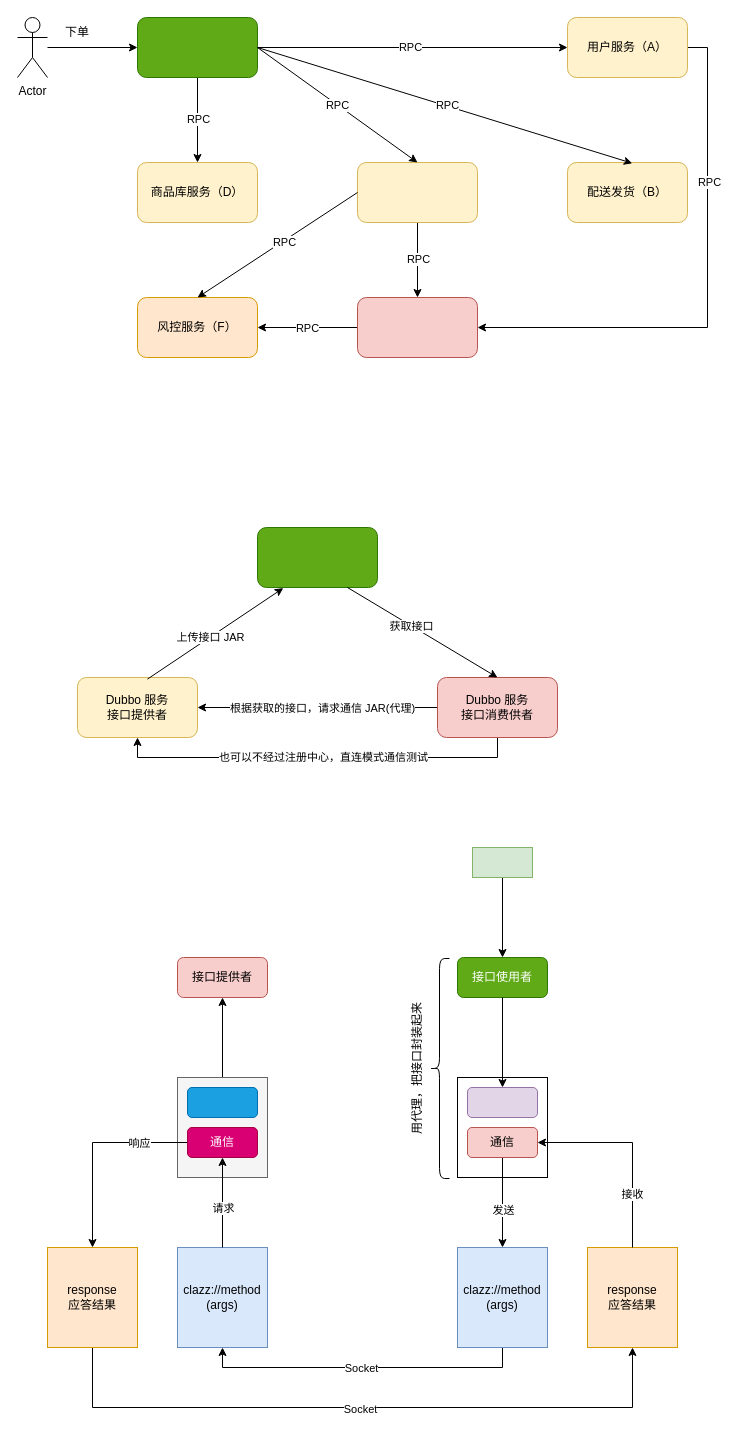
This 738x1433 diagram has some shape labels left out. The centre of each missing label's shape, as x and y in pixels:
Jar: the point at 502,862
交易支付（C）: the point at 417,192
代理: the point at 502,1102
反射: the point at 222,1102
商城服务: the point at 197,47
注册中心: the point at 317,557
营销活动: the point at 417,327
